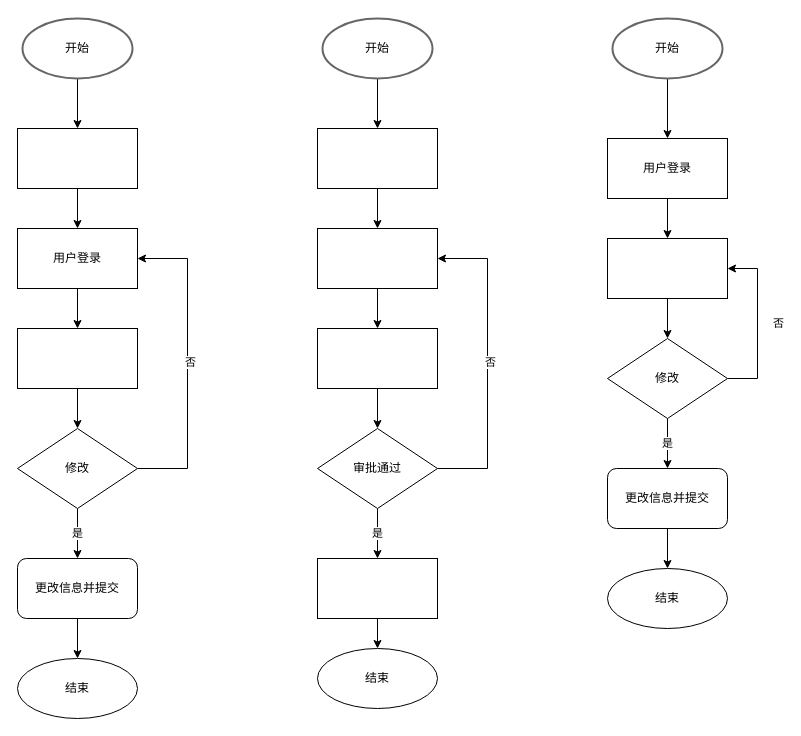
The diagram is 801 pixels wide and 736 high, and some of its shapes have lost their labels. Each missing label, with the centre of its shape:
创建对应 用户角色: point (377, 588)
填写认证信息 并提交申请: point (377, 258)
查看用户个人信息: point (77, 358)
查看用户账号信息: point (667, 268)
用户注册并初始化: point (77, 158)
用户账号登录: point (377, 158)
管理员审批: point (377, 358)
